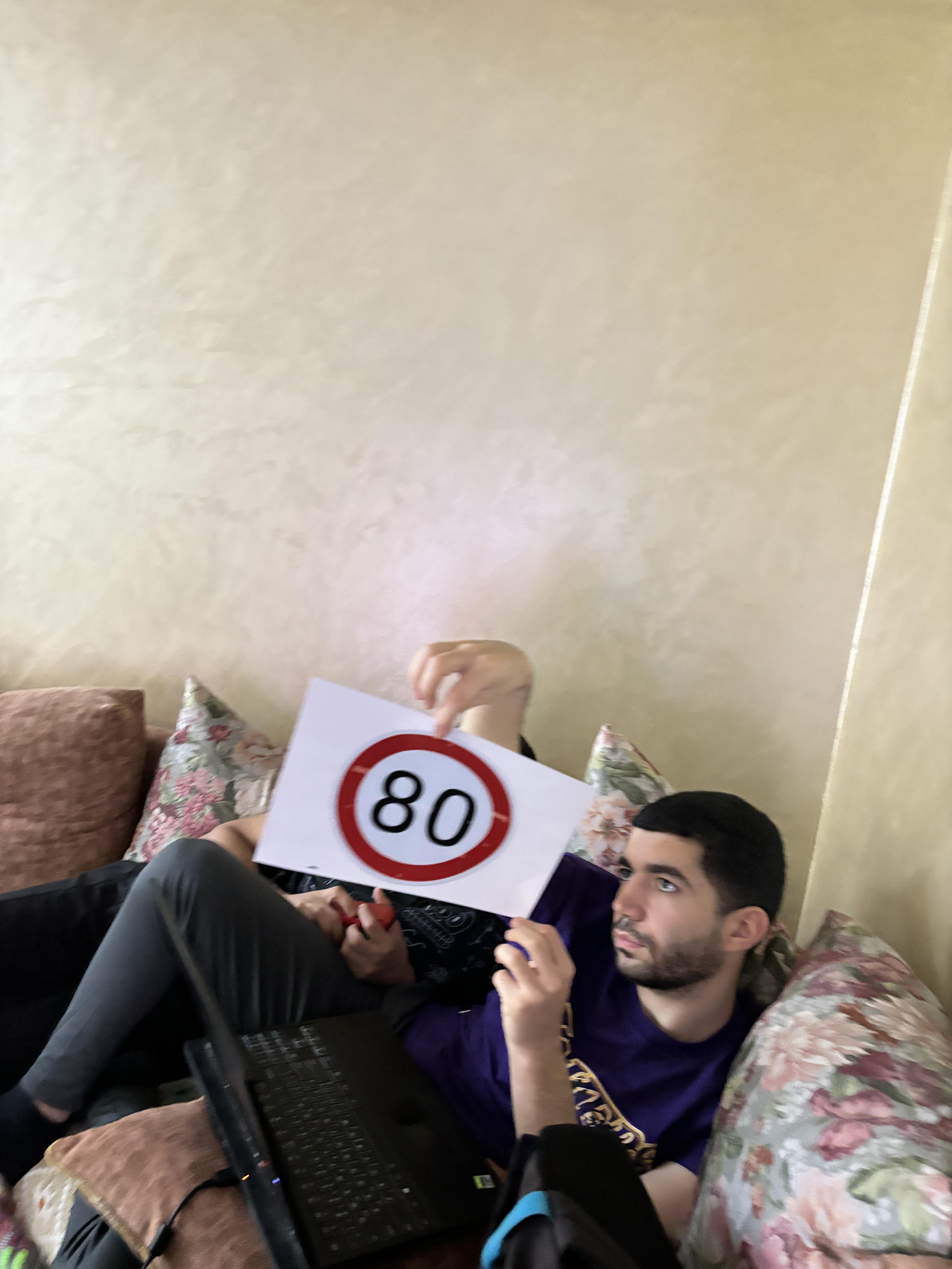80-Speed: (327, 729, 518, 888)
